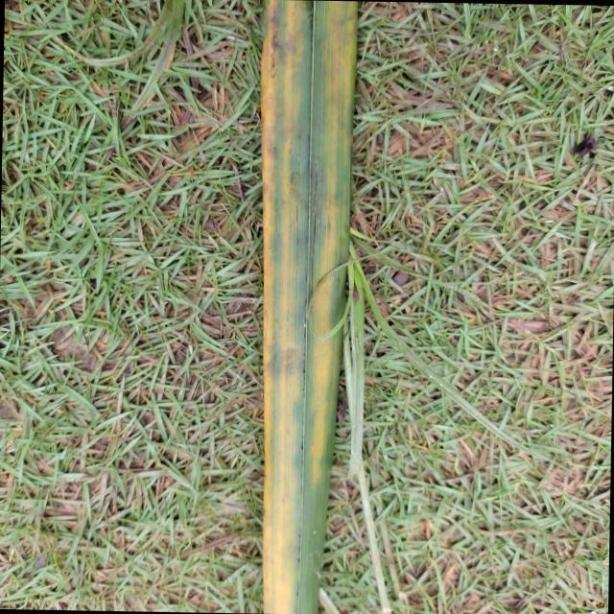Megnesium: (257, 0, 360, 614)
